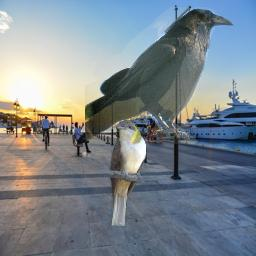Crow: (85, 7, 235, 144)
Cuckoo: (108, 120, 146, 226)
